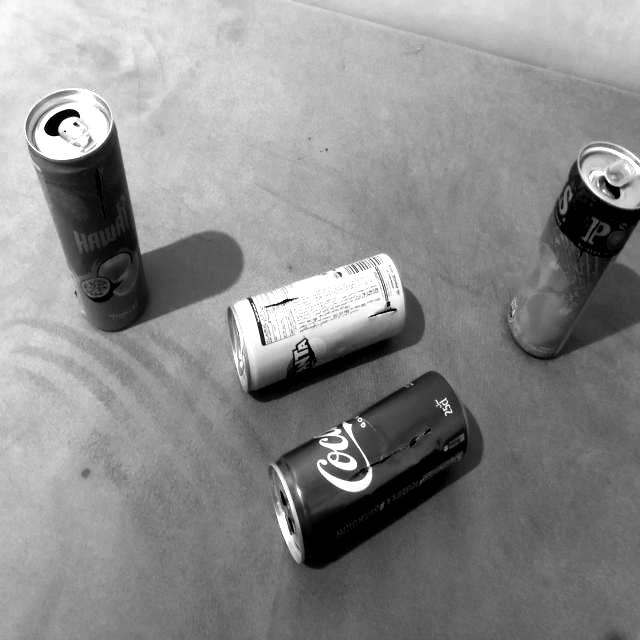cut: (340, 425, 439, 487), (560, 195, 619, 265), (79, 163, 115, 239), (249, 292, 312, 315), (357, 304, 404, 324)
metal: (270, 371, 473, 563), (27, 89, 147, 329), (507, 142, 639, 359), (228, 254, 405, 392)
